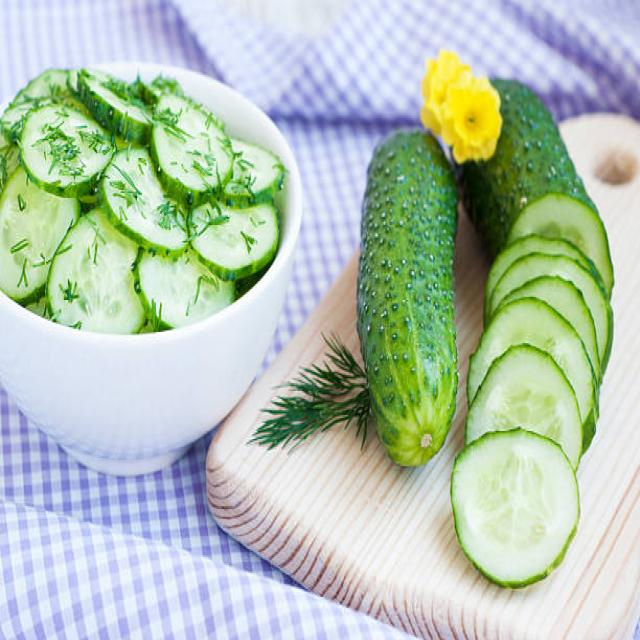cucumber: (357, 124, 457, 462)
